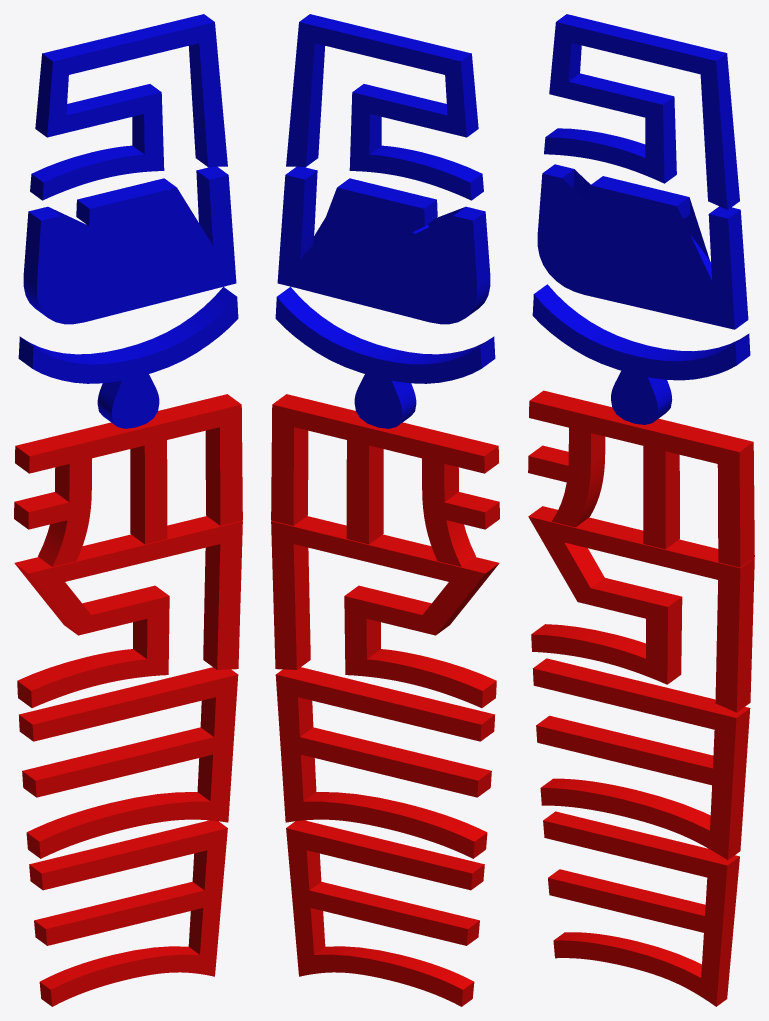
Rendered from Text_sign_2.fbx.
3 renders of one model, left to right at view 1: azimuth 30°, elevation 25°; view 2: azimuth 150°, elevation 25°; view 3: azimuth 330°, elevation 25°, orthographic.
Parts seen in each view (by area): view 1: Text_sign_2; view 2: Text_sign_2; view 3: Text_sign_2.
Boxes of the visible parts, box(x1,y1,x2,y2) form: Text_sign_2: box(14, 14, 242, 1006); Text_sign_2: box(271, 14, 499, 1006); Text_sign_2: box(528, 14, 754, 1006).
Bounding box in the file's own units: 28.46 × 121 × 3.33.
